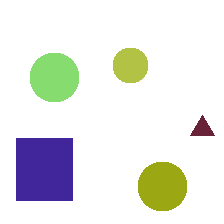circle: (30, 53, 78, 101), (138, 162, 186, 210), (113, 48, 147, 82)
rectangle: (16, 138, 72, 200)
triangle: (190, 115, 214, 135)
